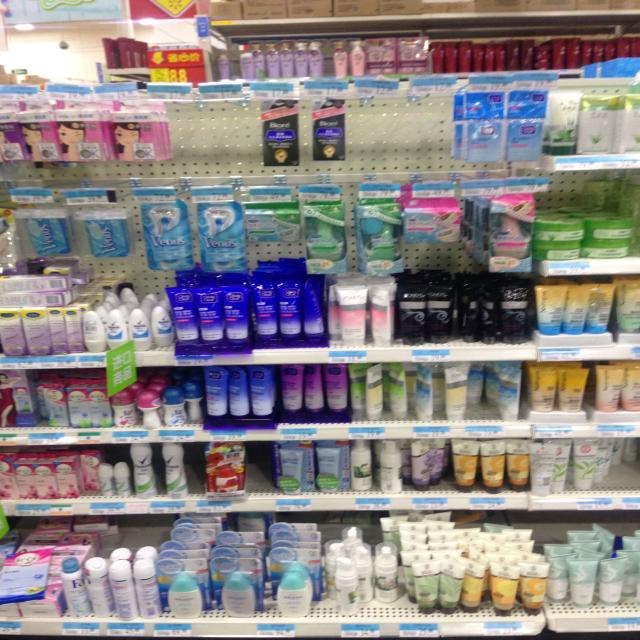empty: (242, 440, 281, 493)
